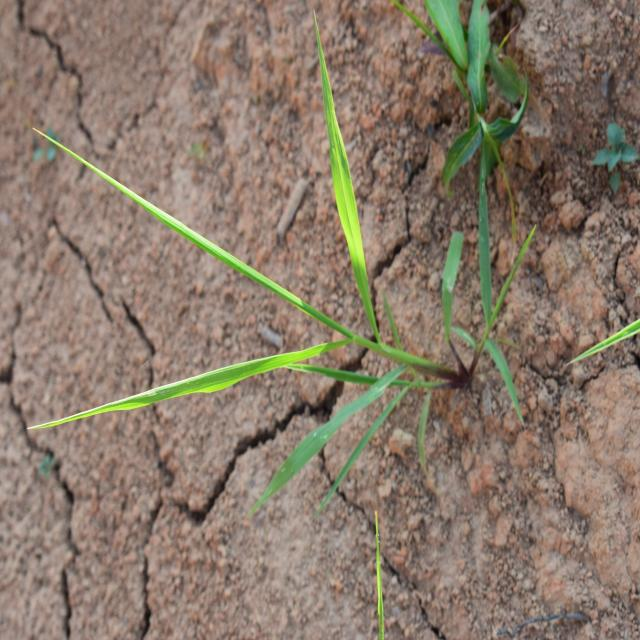green_foxtail: (42, 154, 527, 468)
